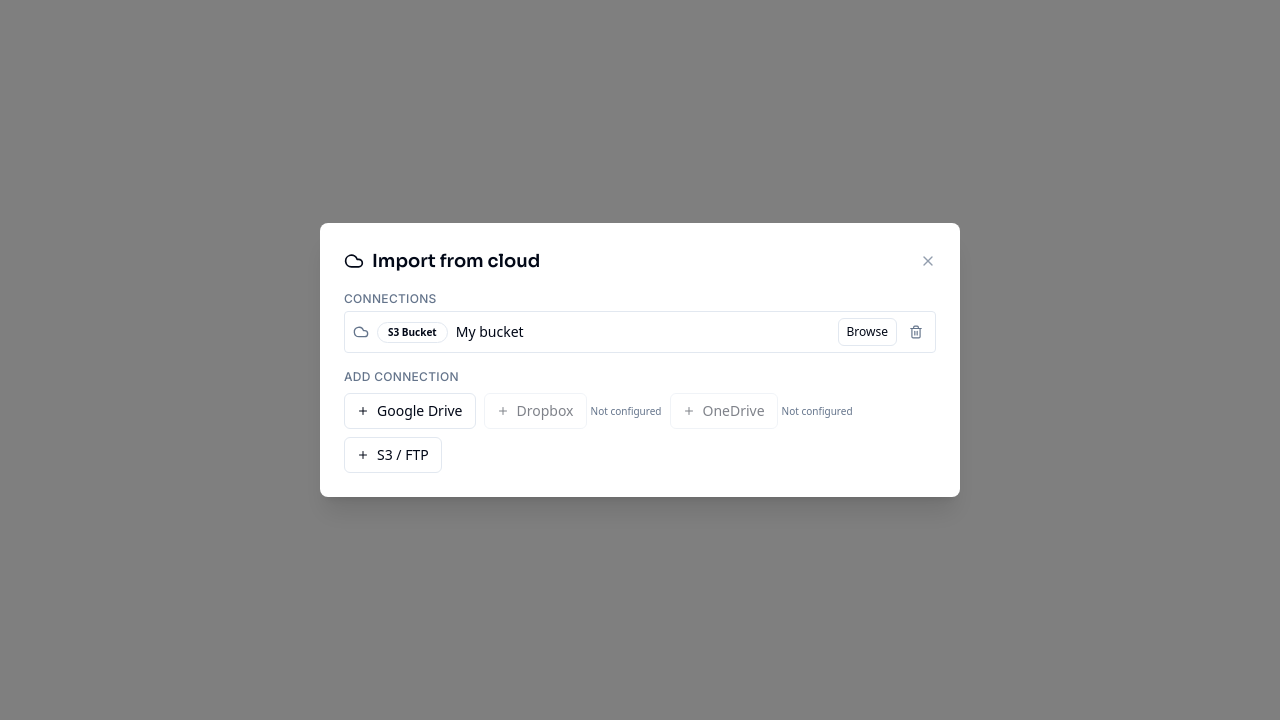
Scenario: CloudImportDialog (Phase D8) — browser step › descends into a folder with folder_id param and updates the breadcrumb
The width and height of the screenshot is (1280, 720).
Click the button "Browse": (867, 332) [838,318,897,346]
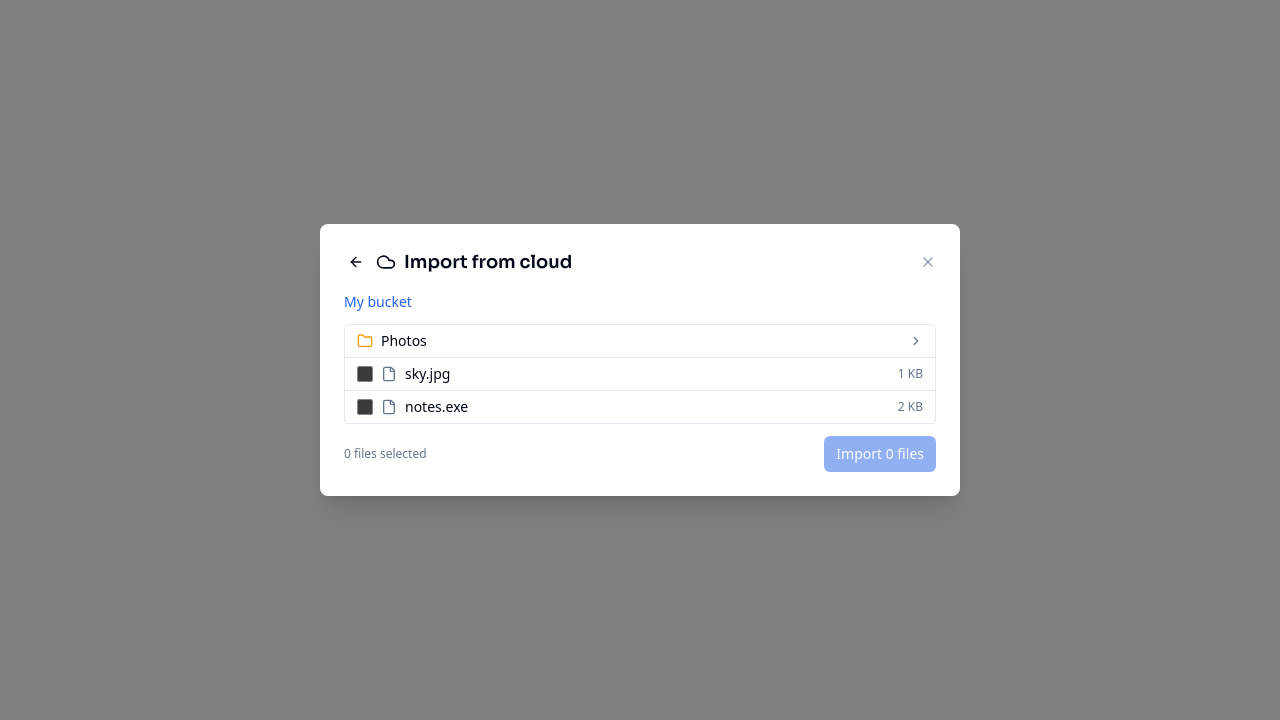
Now the text "sky.jpg" is shown, box [405,364,450,383]
Click the button "Photos": (404, 340) [345,325,935,357]
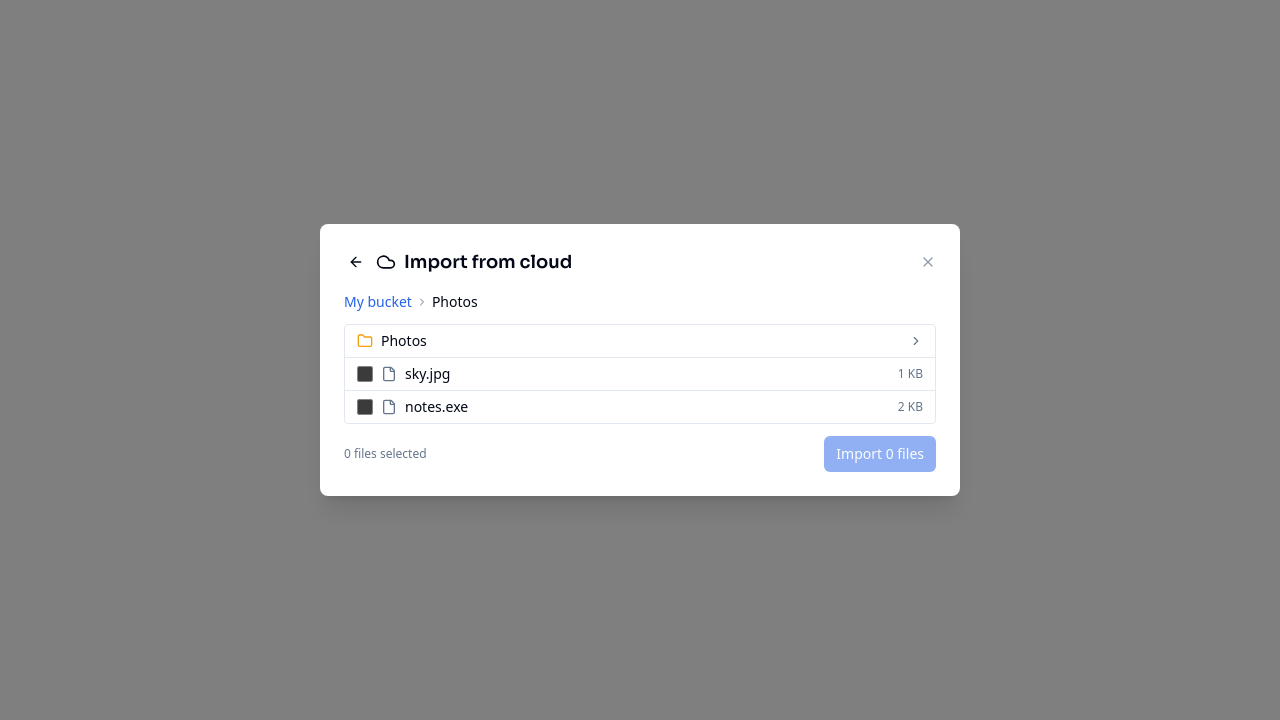
Expected: the button "My bucket" is shown, [344,292,412,312]
Now the 1st button "Photos" is shown, box [432,292,478,312]
